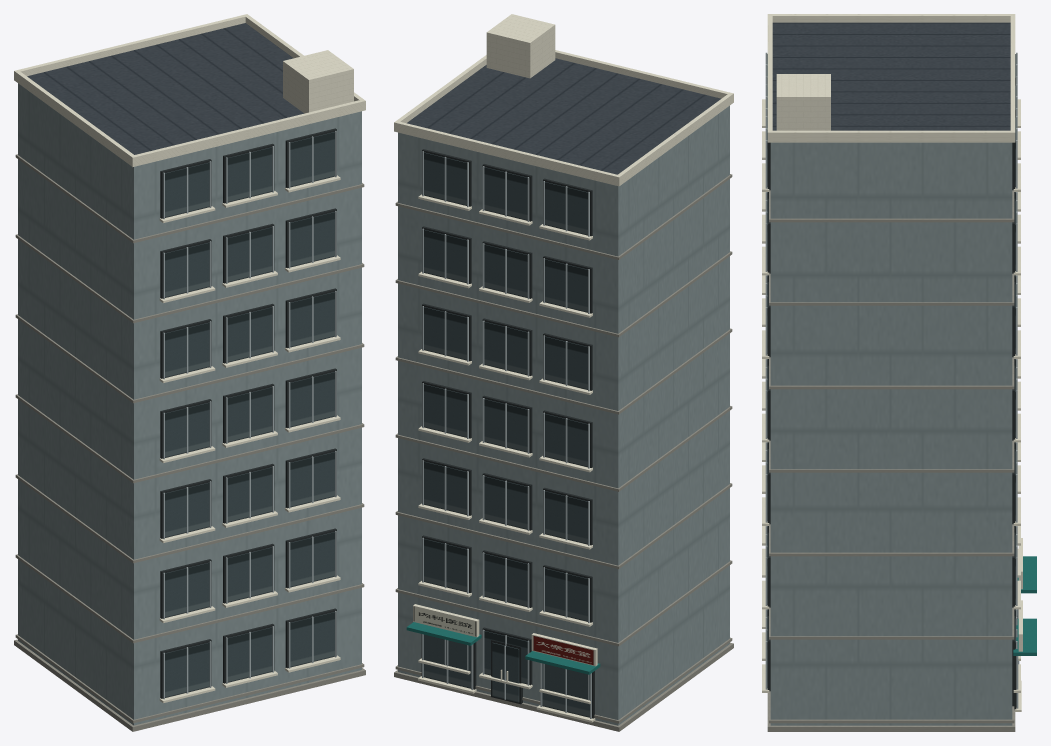
File: shop_008.obj
The picture shows the model from 3 angles, left to right: view 1: azimuth 30°, elevation 25°; view 2: azimuth 150°, elevation 25°; view 3: azimuth 270°, elevation 25°; orthographic projection. The views are drawn at different scales.
Parts seen in each view (by area): view 1: shop_008; view 2: shop_008; view 3: shop_008.
Part boxes in pixels (x1,y1,x2,y2): shop_008: (14,14,365,731); shop_008: (394,14,733,731); shop_008: (762,14,1036,731).
Bounding box in the file's own units: 9.3 × 23.05 × 9.09.
1 material, 1 textured.
